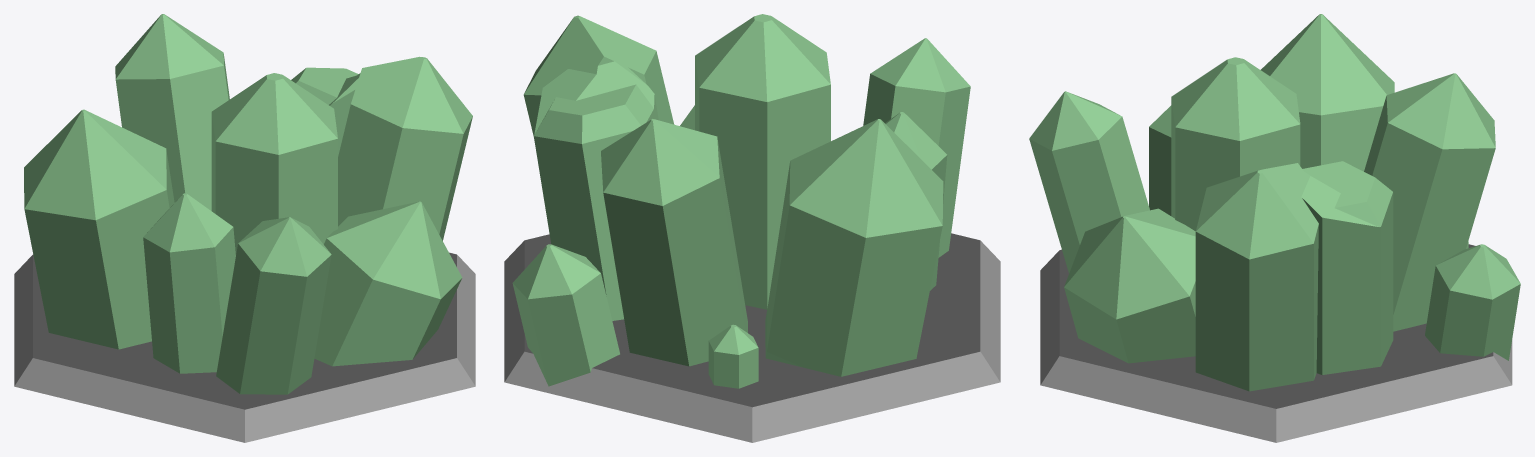
Rendered from zold_asvany.glb.
The picture shows the model from 3 angles, left to right: view 1: azimuth 30°, elevation 25°; view 2: azimuth 150°, elevation 25°; view 3: azimuth 270°, elevation 25°; orthographic projection. The views are drawn at different scales.
Parts seen in each view (by area): view 1: zold_asvany; view 2: zold_asvany; view 3: zold_asvany.
Part boxes in pixels (x1,y1,x2,y2): zold_asvany: (14,14,475,442); zold_asvany: (504,14,1000,442); zold_asvany: (1029,14,1520,442).
Bounding box in the file's own units: 20 × 11 × 18.05.
